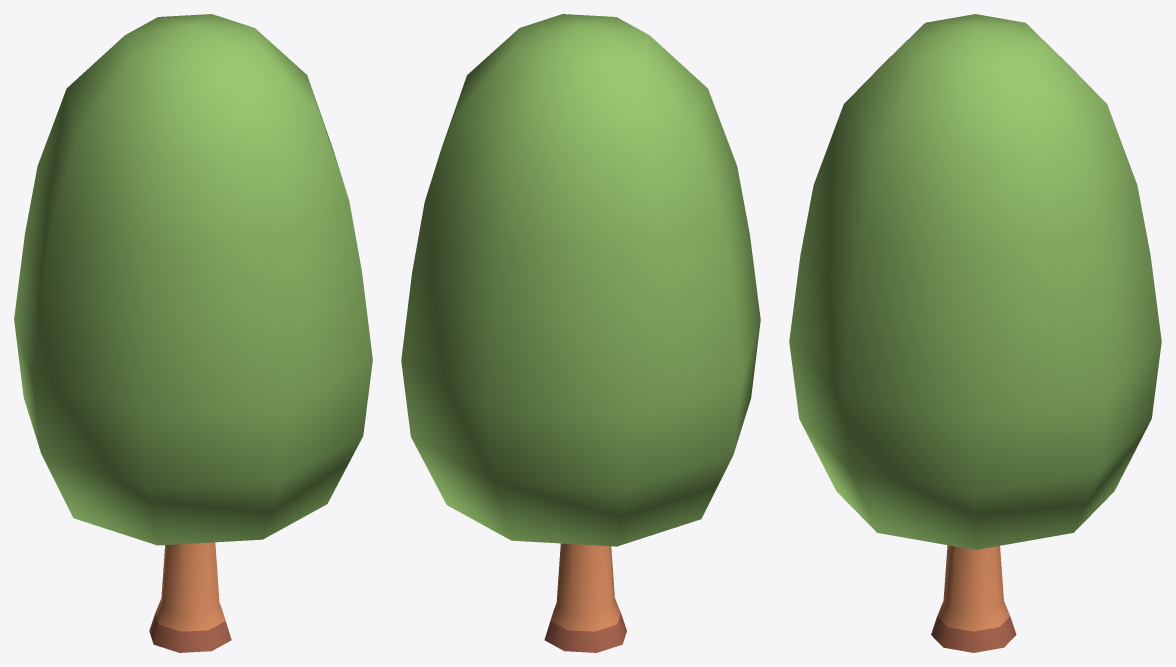
File: Tree_b.FBX
3 renders of one model, left to right at view 1: azimuth 30°, elevation 25°; view 2: azimuth 150°, elevation 25°; view 3: azimuth 270°, elevation 25°, orthographic.
Parts seen in each view (by area): view 1: Tree_b; view 2: Tree_b; view 3: Tree_b.
Boxes of the visible parts, x1,y1,x2,y2 form: Tree_b: (14,14,372,652); Tree_b: (401,14,760,652); Tree_b: (789,14,1161,652).
Size of the model in its own units: 164 by 297 by 164.
